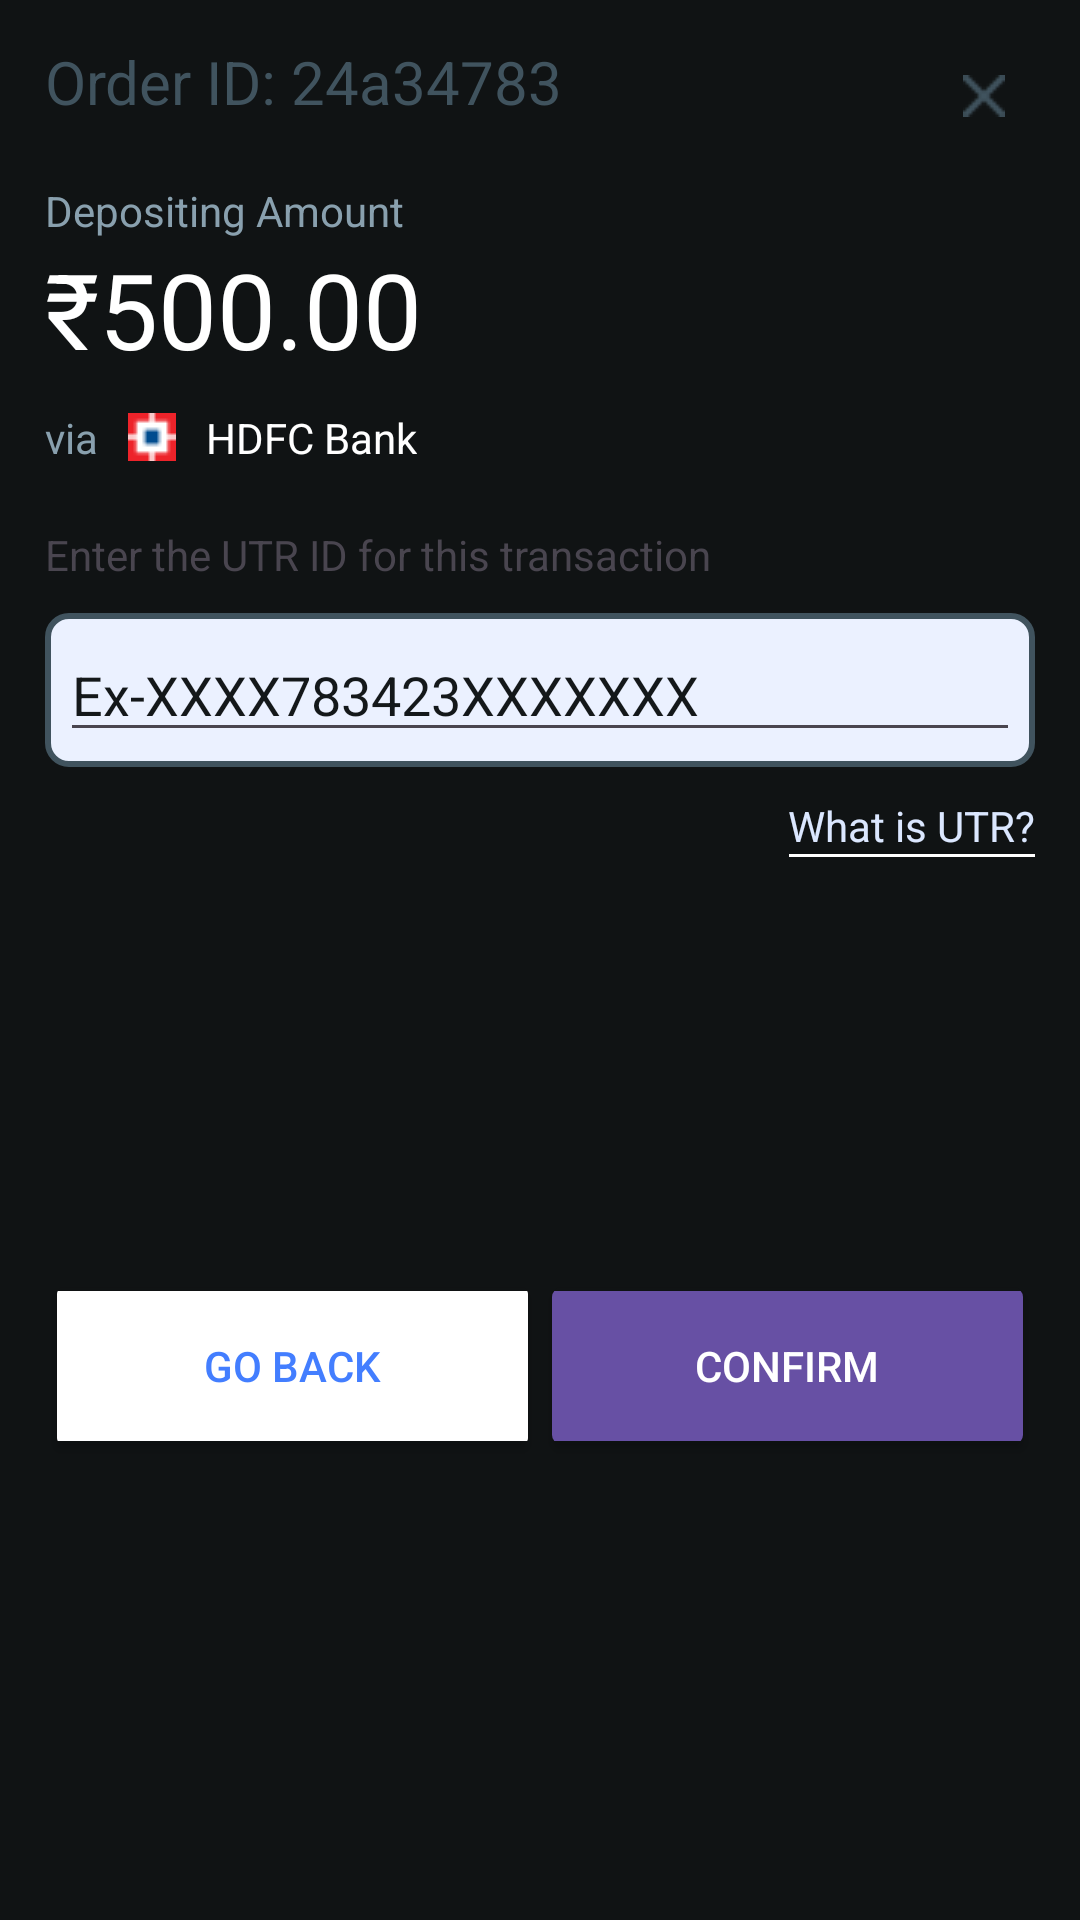

Named icons in this screenshot (1080 x 1920) and their centers, (x,y):
cross: (984,96)
